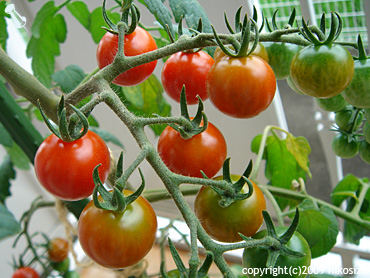stems: (112, 151, 143, 201), (67, 95, 101, 137), (175, 173, 233, 196), (222, 236, 280, 254), (274, 24, 325, 42), (139, 115, 190, 132), (113, 21, 127, 62), (228, 37, 246, 56)
tomato: (77, 188, 158, 268), (33, 127, 111, 202), (194, 174, 266, 243), (157, 115, 228, 183), (206, 53, 278, 119), (96, 24, 159, 87), (242, 226, 311, 278), (292, 42, 355, 98), (161, 46, 216, 105), (263, 32, 302, 79), (340, 55, 370, 108), (214, 40, 270, 63), (330, 133, 360, 159), (335, 107, 363, 134), (312, 94, 347, 112), (360, 141, 370, 165), (363, 117, 370, 144)
